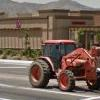Tractor: (26, 36, 100, 94)
